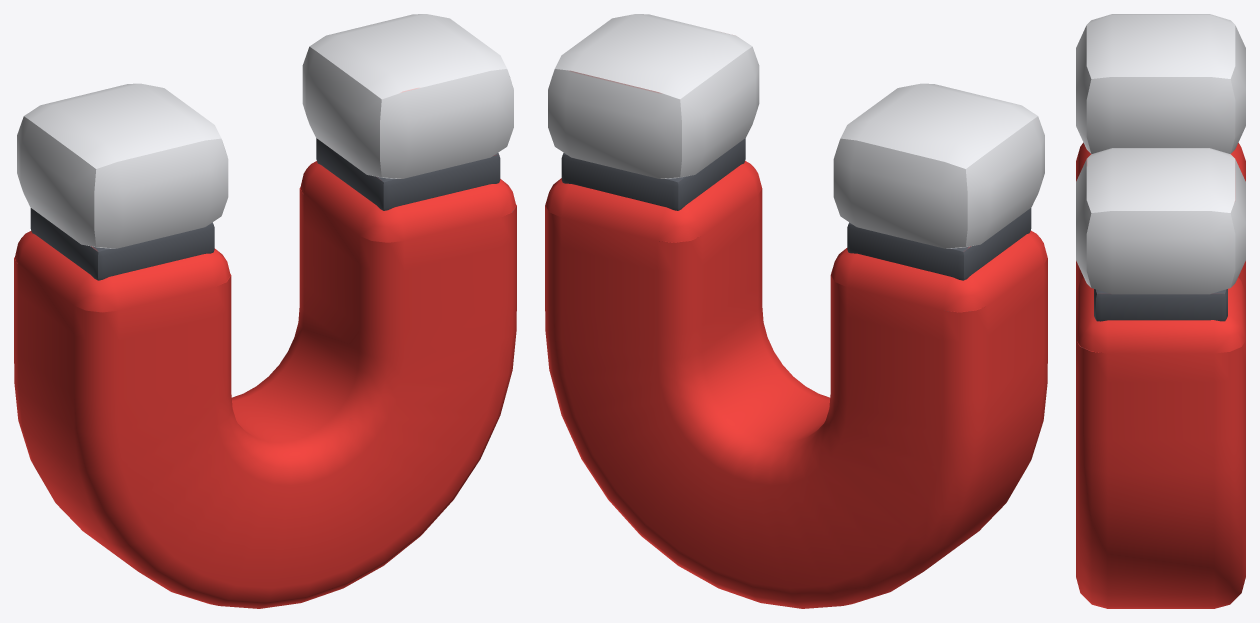
Rendered from SM_PocketMagnet.fbx.
3 renders of one model, left to right at view 1: azimuth 30°, elevation 25°; view 2: azimuth 150°, elevation 25°; view 3: azimuth 270°, elevation 25°, orthographic. The views are drawn at different scales.
Parts seen in each view (by area): view 1: SM_PocketMagnet; view 2: SM_PocketMagnet; view 3: SM_PocketMagnet.
Boxes of the visible parts, bbox=[...] form: SM_PocketMagnet: bbox=[14, 14, 516, 608]; SM_PocketMagnet: bbox=[545, 14, 1047, 608]; SM_PocketMagnet: bbox=[1076, 14, 1245, 608].
Bounding box in the file's own units: 0.215 × 0.2355 × 0.075.
